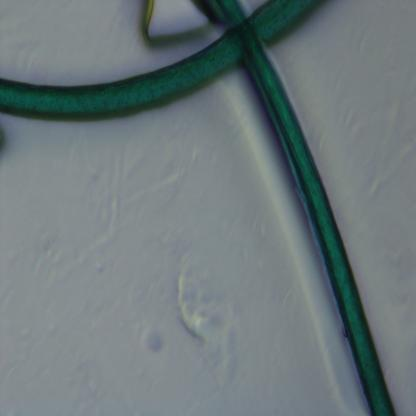Air bubble: (144, 0, 214, 44)
Background material: (174, 250, 242, 381), (142, 322, 173, 356), (0, 117, 16, 161)
Microfibre: (210, 1, 397, 415), (0, 0, 327, 118)
